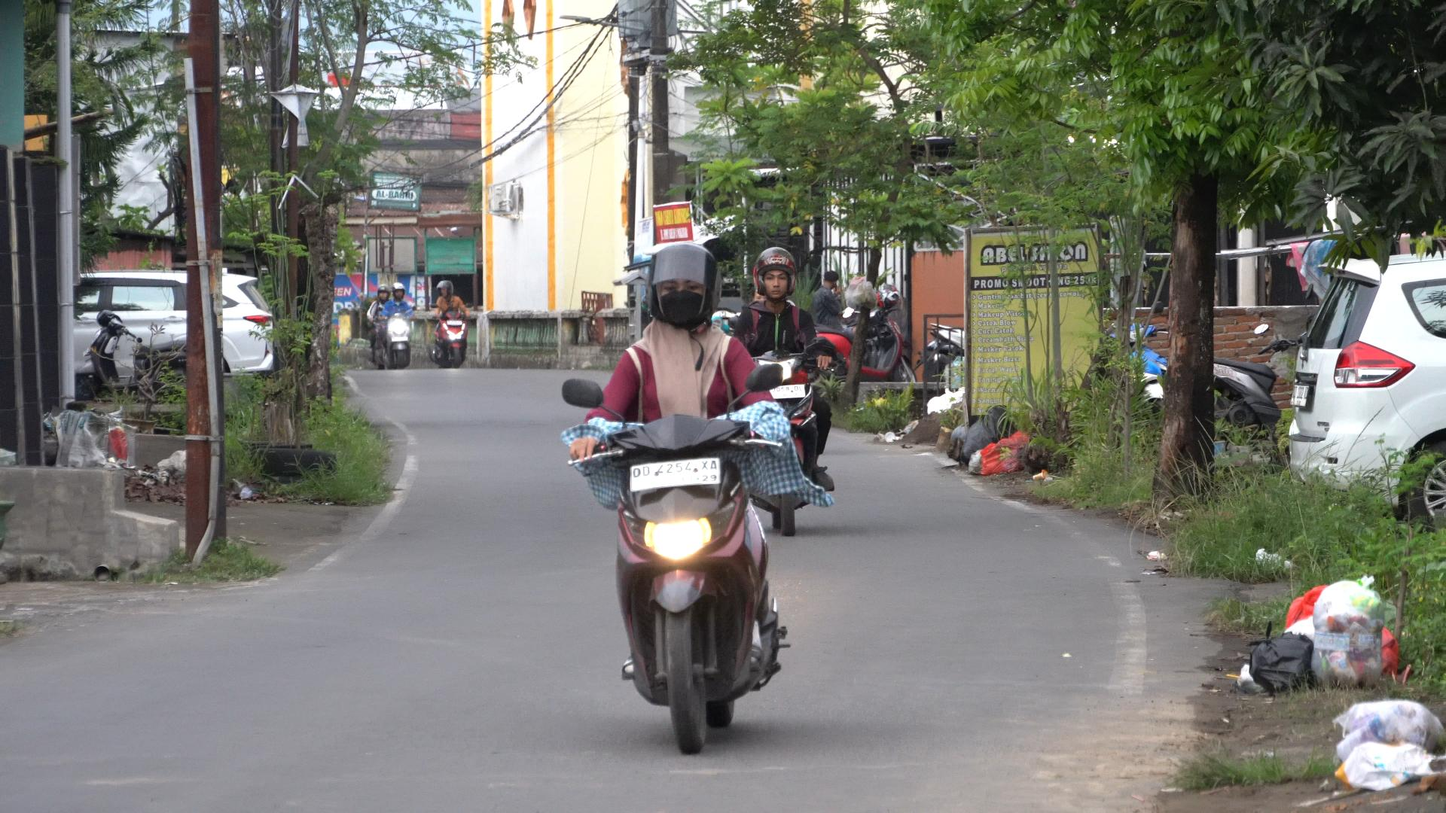number-plate: (630, 456, 722, 485)
